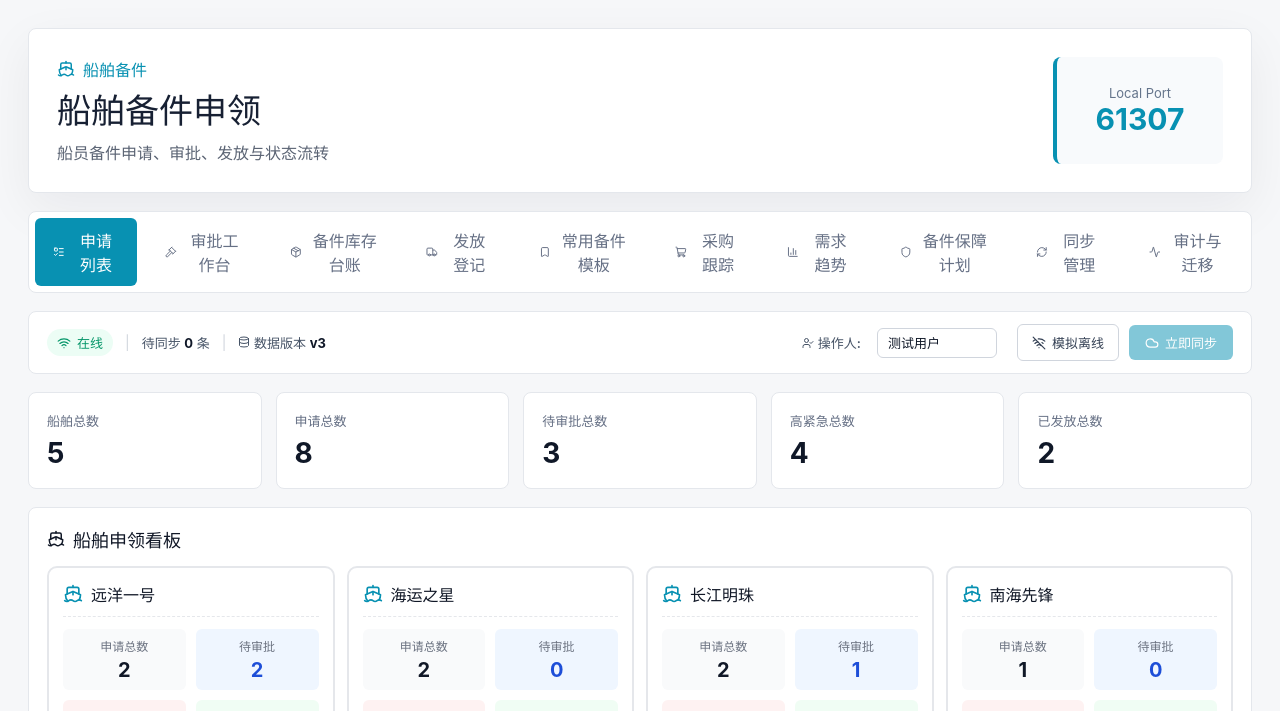
Test case: App 冒烟测试 › 点击发放登记标签应切换到发放页面
The width and height of the screenshot is (1280, 711).
Click the button "发放登记". click: (459, 252)
box: [408, 218, 510, 286]
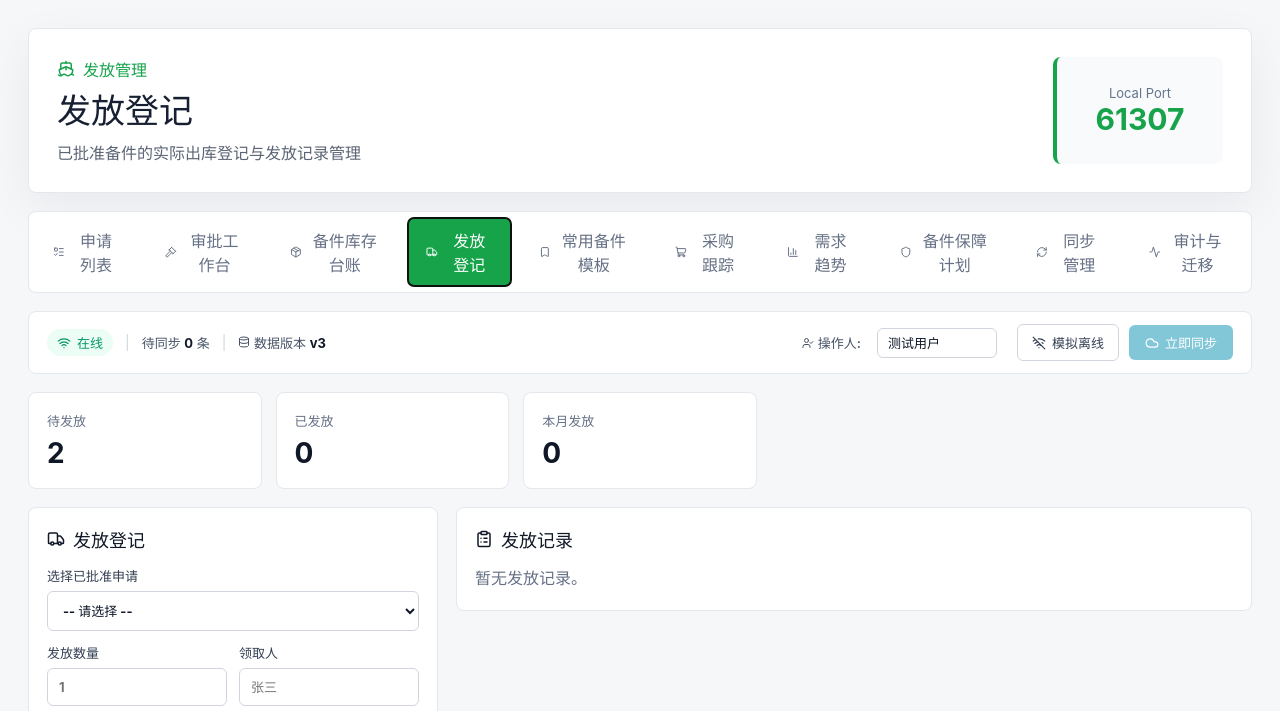
Check: the heading "发放登记" below "发放管理" is shown, box [57, 90, 193, 131]
